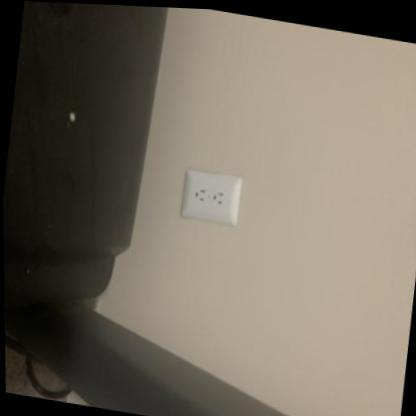OUTLET: (179, 165, 243, 225)
